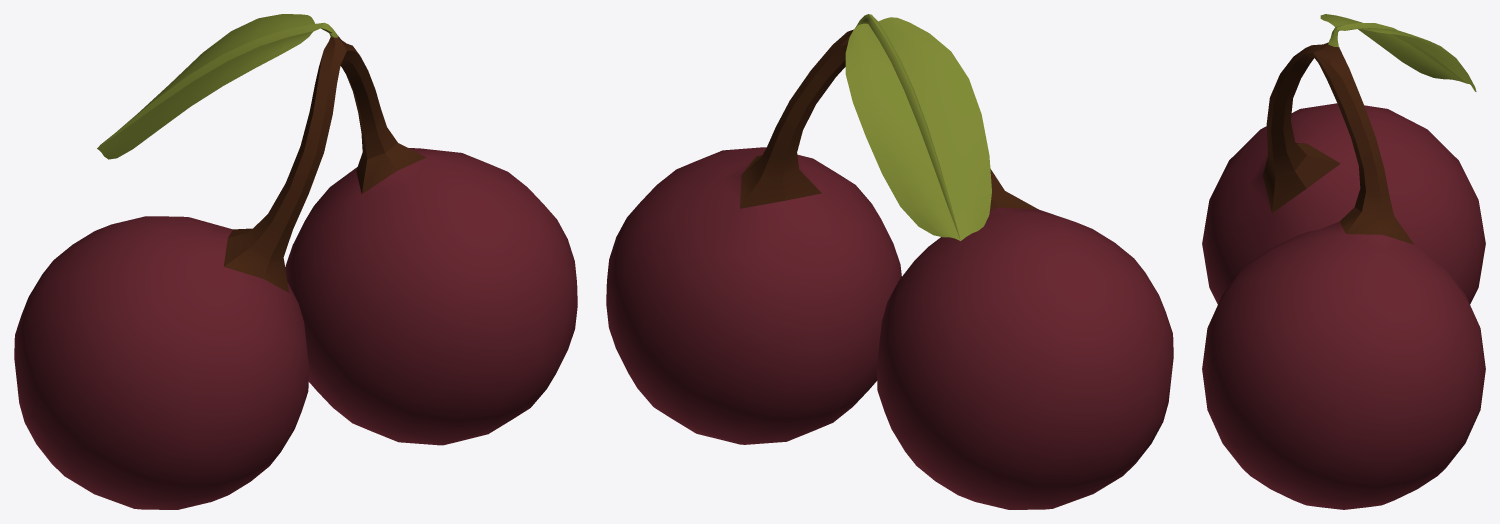
The model's file is cherry.fbx.
The picture shows the model from 3 angles, left to right: view 1: azimuth 30°, elevation 25°; view 2: azimuth 150°, elevation 25°; view 3: azimuth 270°, elevation 25°; orthographic projection. The views are drawn at different scales.
Parts seen in each view (by area): view 1: Icosphere; view 2: Icosphere; view 3: Icosphere.
Boxes of the visible parts, x1,y1,x2,y2 form: Icosphere: (14, 14, 577, 509); Icosphere: (606, 14, 1173, 509); Icosphere: (1202, 14, 1485, 509).
Size of the model in its own units: 3.78 by 1.85 by 3.02.
